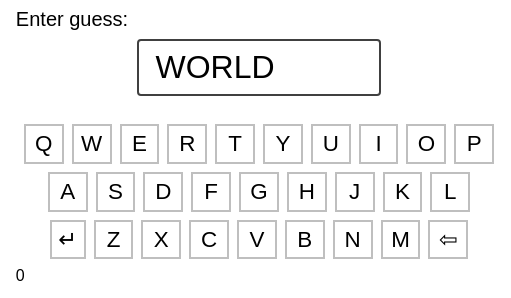
Test case: GuessBar › should remove last character when delete button is clicked
The image size is (511, 298).
Click the text "⇦". click: (448, 240)
box: [428,220,468,260]
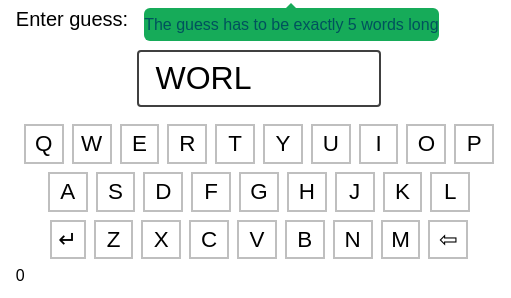
Result: the field holds "WORL" at [137,50,381,107]
